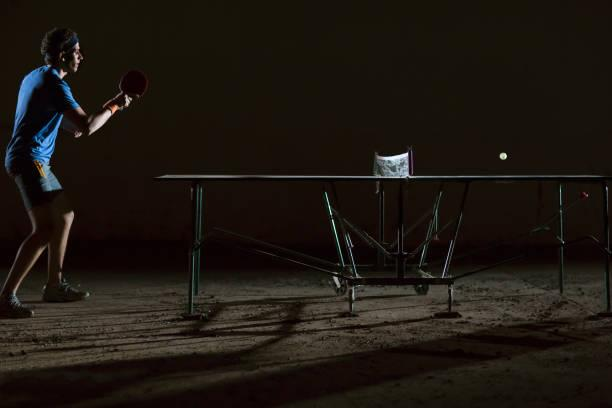ball_pingpong: (499, 150, 508, 159)
